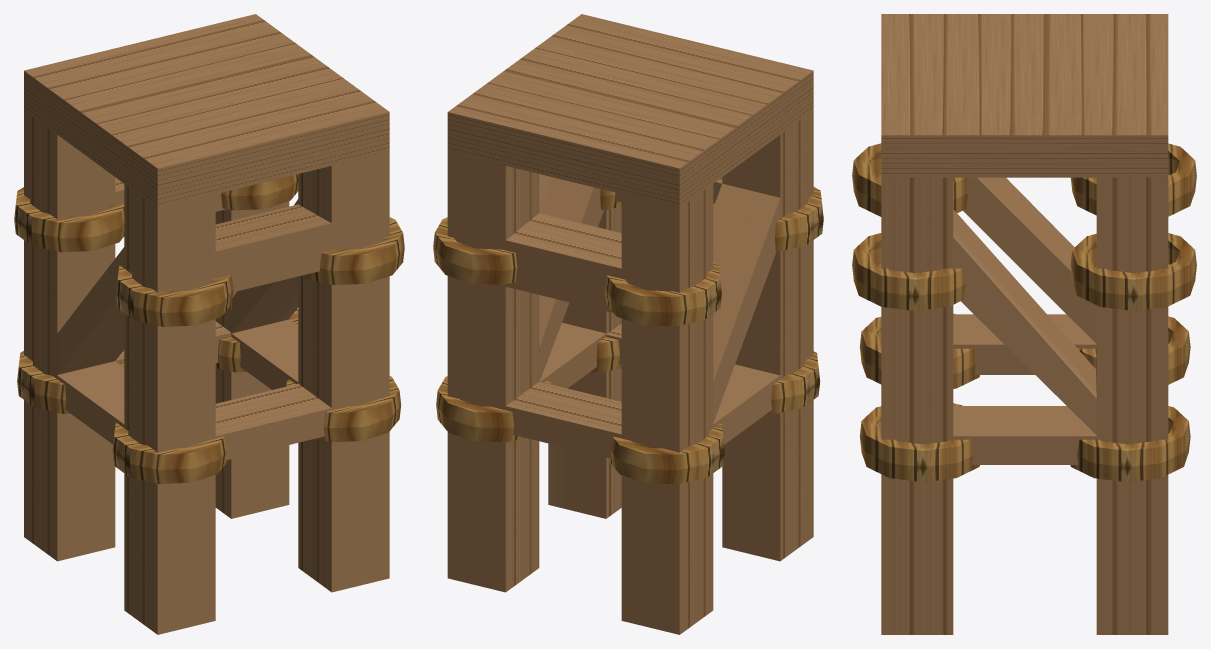
File: Torre_Nivel1.FBX
3 views of the same model, side by side, from view 1: azimuth 30°, elevation 25°; view 2: azimuth 150°, elevation 25°; view 3: azimuth 270°, elevation 25° (orthographic). The views are drawn at different scales.
Visible parts, largest first — view 1: EstructuraTorre, ChamferCyl001, ChamferCyl002, ChamferCyl004, ChamferCyl006, ChamferCyl008, ChamferCyl003, ChamferCyl007, ChamferCyl005; view 2: EstructuraTorre, ChamferCyl002, ChamferCyl003, ChamferCyl007, ChamferCyl005, ChamferCyl001, ChamferCyl004, ChamferCyl008; view 3: EstructuraTorre, ChamferCyl007, ChamferCyl006, ChamferCyl008, ChamferCyl005, ChamferCyl002, ChamferCyl001, ChamferCyl004, ChamferCyl003.
Part boxes in pixels (x1,y1,x2,y2): EstructuraTorre: (24,14,389,634); ChamferCyl001: (116,265,233,326); ChamferCyl002: (14,187,124,252); ChamferCyl004: (112,422,228,483); ChamferCyl006: (301,217,404,284); ChamferCyl008: (286,376,401,442); ChamferCyl003: (17,351,124,414); ChamferCyl007: (221,174,298,210); ChamferCyl005: (215,309,298,372); EstructuraTorre: (447,14,813,634); ChamferCyl002: (604,262,721,326); ChamferCyl003: (608,422,724,484); ChamferCyl007: (433,217,517,284); ChamferCyl005: (436,376,550,442); ChamferCyl001: (713,187,823,251); ChamferCyl004: (767,351,820,414); ChamferCyl008: (590,336,621,372); EstructuraTorre: (881,14,1168,634); ChamferCyl007: (1070,233,1196,310); ChamferCyl006: (852,233,965,310); ChamferCyl008: (859,403,979,482); ChamferCyl005: (1070,406,1190,482); ChamferCyl002: (1070,143,1196,216); ChamferCyl001: (852,143,968,216); ChamferCyl004: (860,313,979,388); ChamferCyl003: (1078,316,1190,384).
Bounding box in the file's own units: 1.17 × 1.2 × 1.92.
